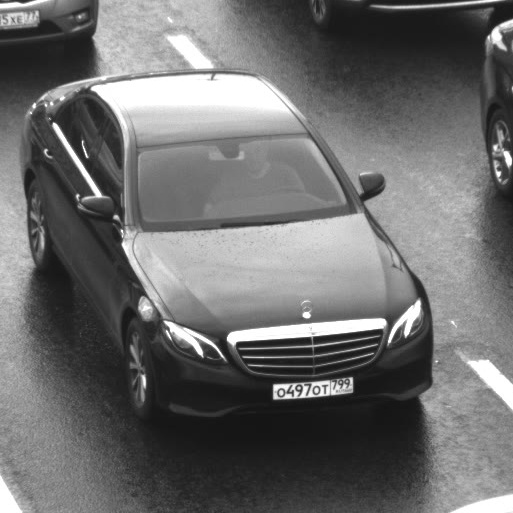plate: (260, 367, 362, 407)
